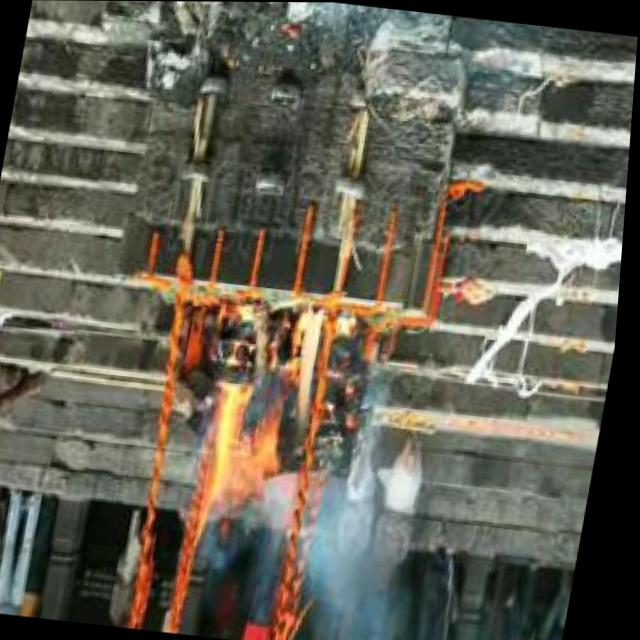Fire: (195, 293, 335, 543)
